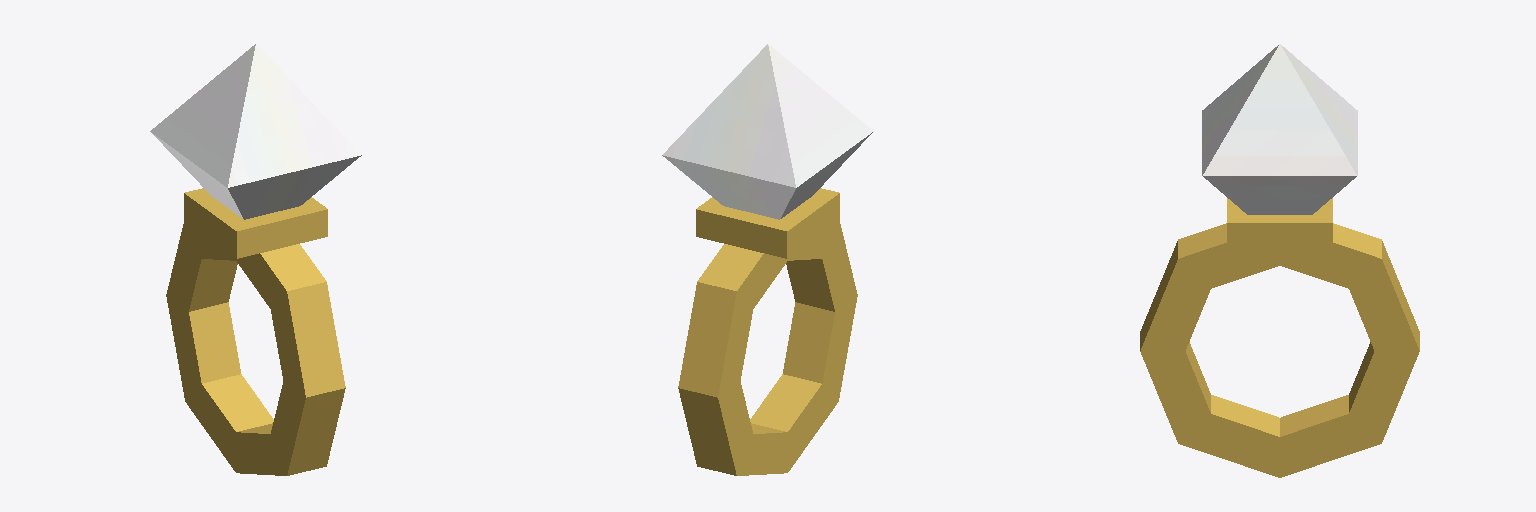
3 renders of one model, left to right at view 1: azimuth 30°, elevation 25°; view 2: azimuth 150°, elevation 25°; view 3: azimuth 270°, elevation 25°, orthographic.
Parts seen in each view (by area): view 1: Cube.021_Cube.038; view 2: Cube.021_Cube.038; view 3: Cube.021_Cube.038.
Part boxes in pixels (bbox=[...]): Cube.021_Cube.038: bbox=[150, 44, 361, 475]; Cube.021_Cube.038: bbox=[662, 44, 873, 475]; Cube.021_Cube.038: bbox=[1140, 44, 1419, 477].
Size of the model in its own units: 0.2122 by 0.6411 by 0.3825.
1 materials, 1 textured.